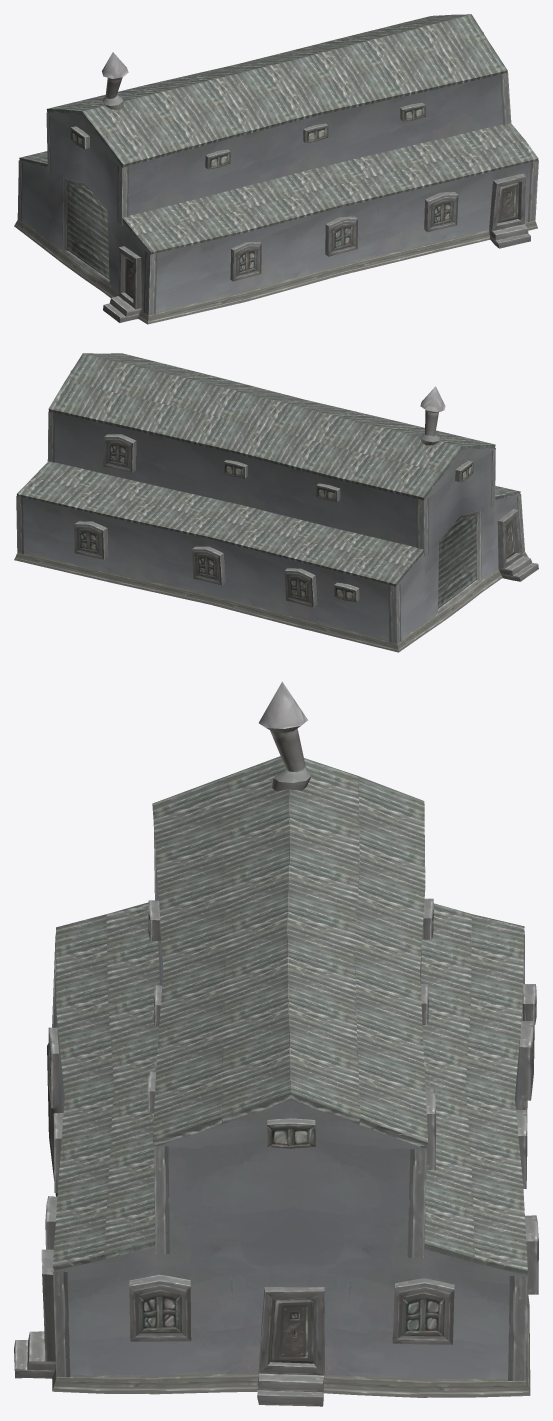
Rendered from Warehouse.fbx.
3 views of the same model, one above another, from view 1: azimuth 30°, elevation 25°; view 2: azimuth 150°, elevation 25°; view 3: azimuth 270°, elevation 25° (orthographic). The views are drawn at different scales.
Parts seen in each view (by area): view 1: Warehouse; view 2: Warehouse; view 3: Warehouse.
Part boxes in pixels (x1,y1,x2,y2): Warehouse: [14, 14, 538, 324]; Warehouse: [14, 353, 538, 652]; Warehouse: [14, 681, 538, 1406].
Bounding box in the file's own units: 1664 × 816 × 981.
